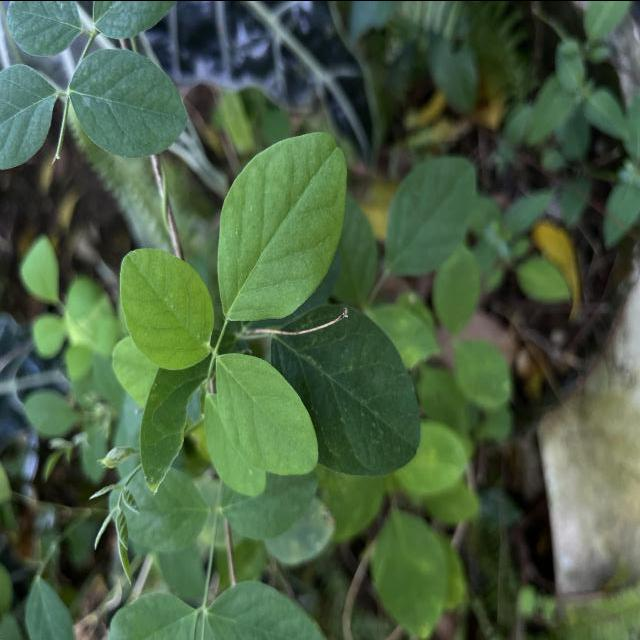Clitoria ternatea: (215, 128, 349, 322), (67, 46, 190, 158), (215, 350, 320, 474), (118, 246, 216, 370)
